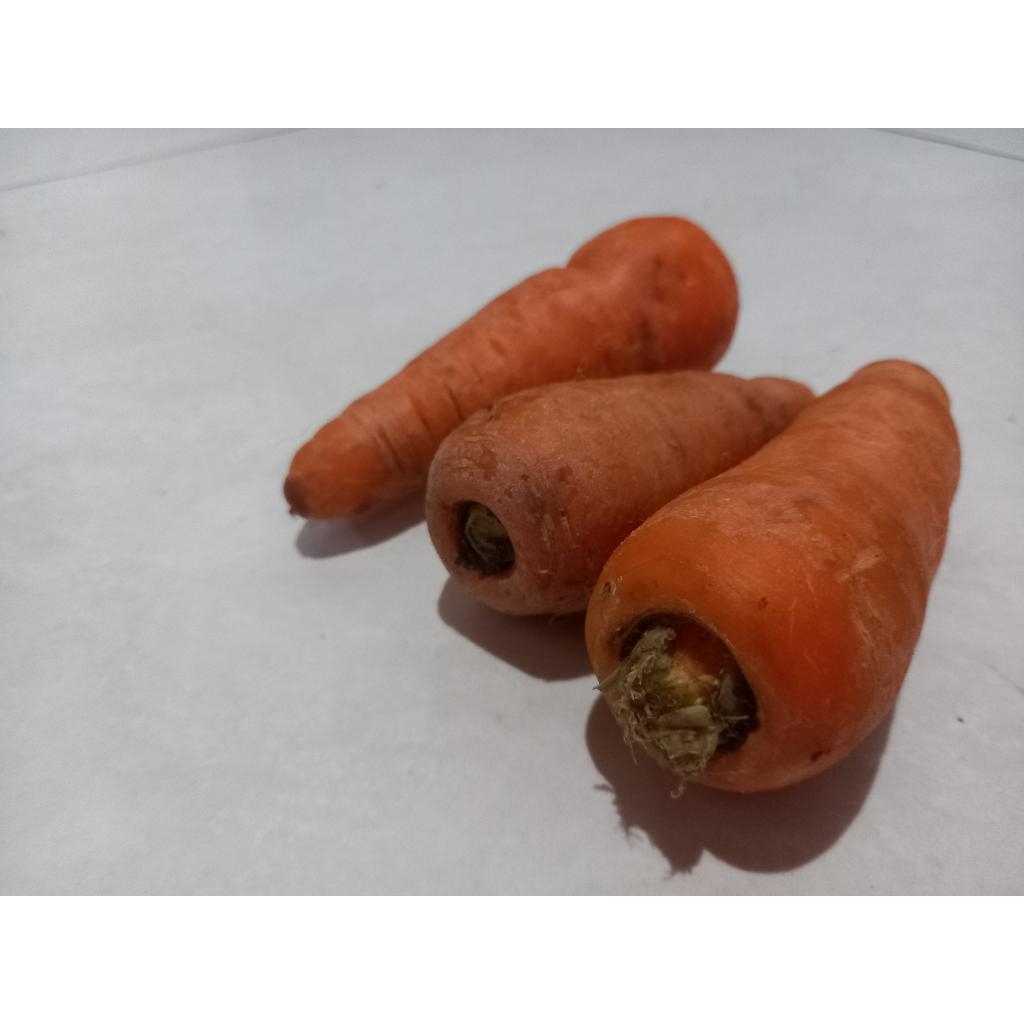carrot: (586, 360, 960, 792), (284, 218, 738, 518), (426, 372, 814, 616)
